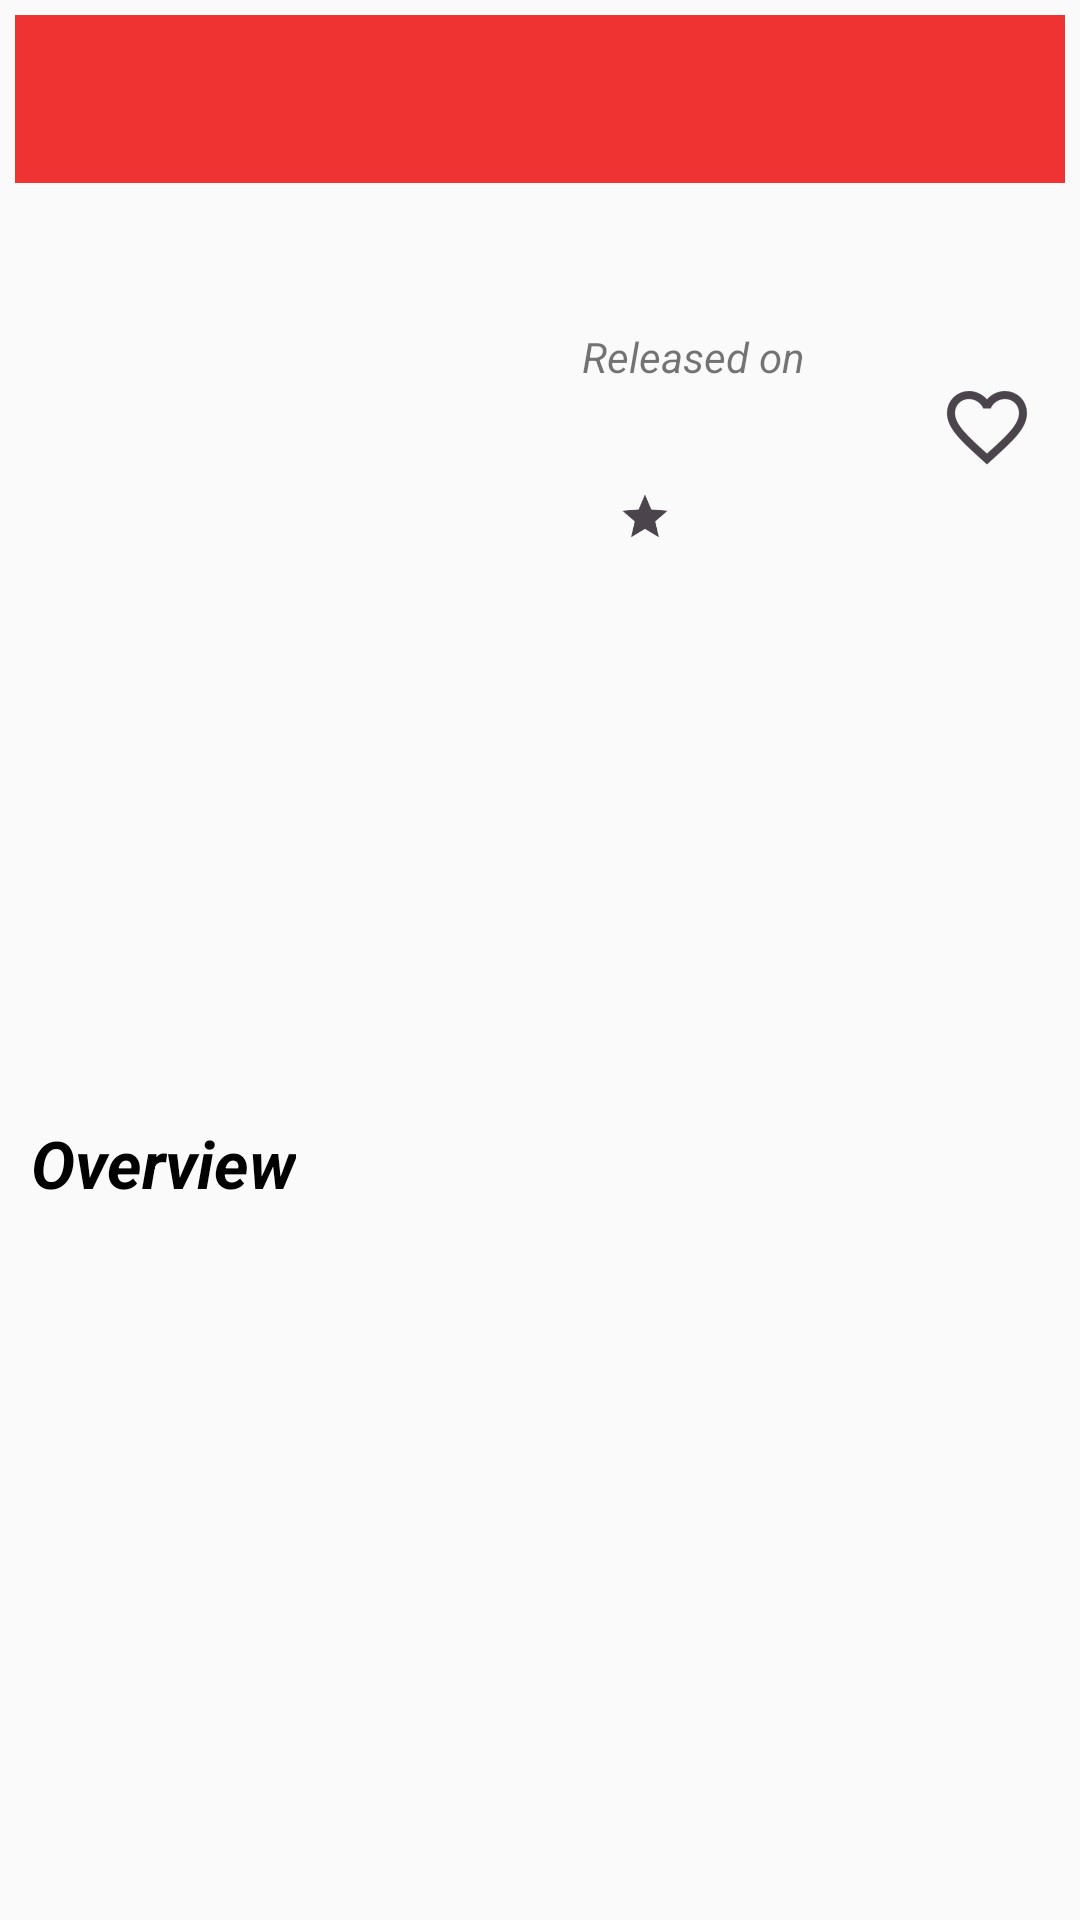

Icons on this 1080px×1920px Android screen, each with its box as box(x1, y1, x2, y2):
favourite off: box(947, 391, 1027, 464)
Star Image: box(623, 495, 667, 537)
